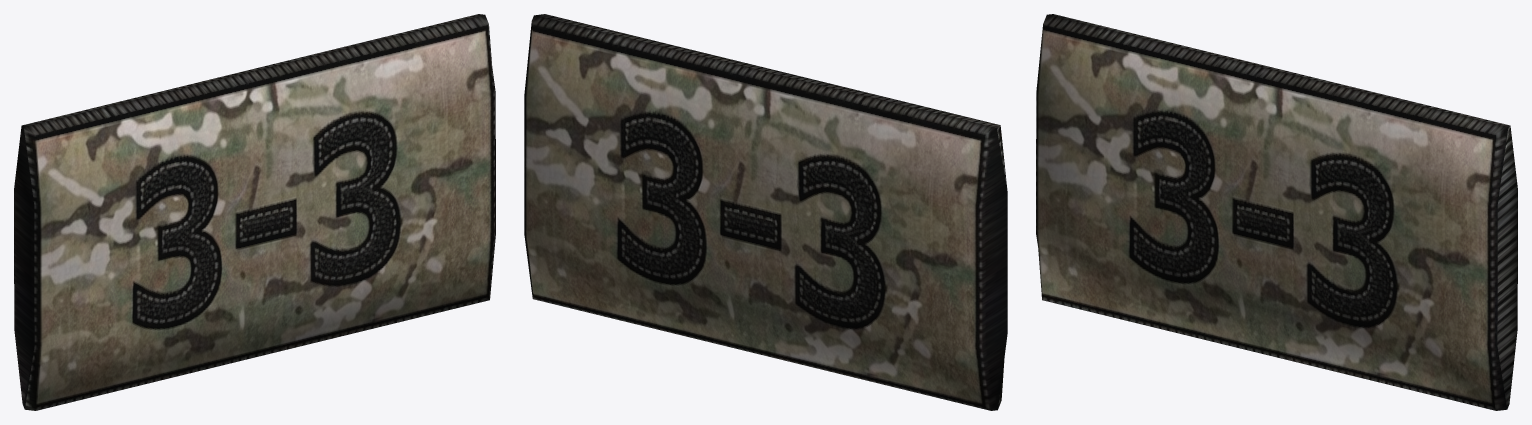
The model's file is Havoc33.fbx.
3 renders of one model, left to right at view 1: azimuth 30°, elevation 25°; view 2: azimuth 150°, elevation 25°; view 3: azimuth 330°, elevation 25°, orthographic.
Parts seen in each view (by area): view 1: FlagPatch; view 2: FlagPatch; view 3: FlagPatch.
Part boxes in pixels (x1,y1,x2,y2): FlagPatch: (14,14,495,410); FlagPatch: (524,14,1007,410); FlagPatch: (1036,14,1517,410).
Bounding box in the file's own units: 9.23 × 5.38 × 0.9201.
